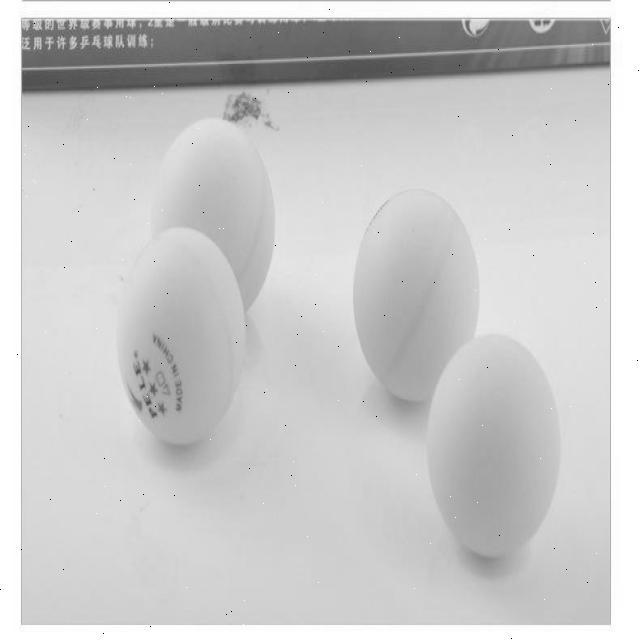ping-pong-ball: (423, 329, 560, 562), (112, 222, 250, 451), (350, 182, 481, 406), (149, 114, 278, 314)
